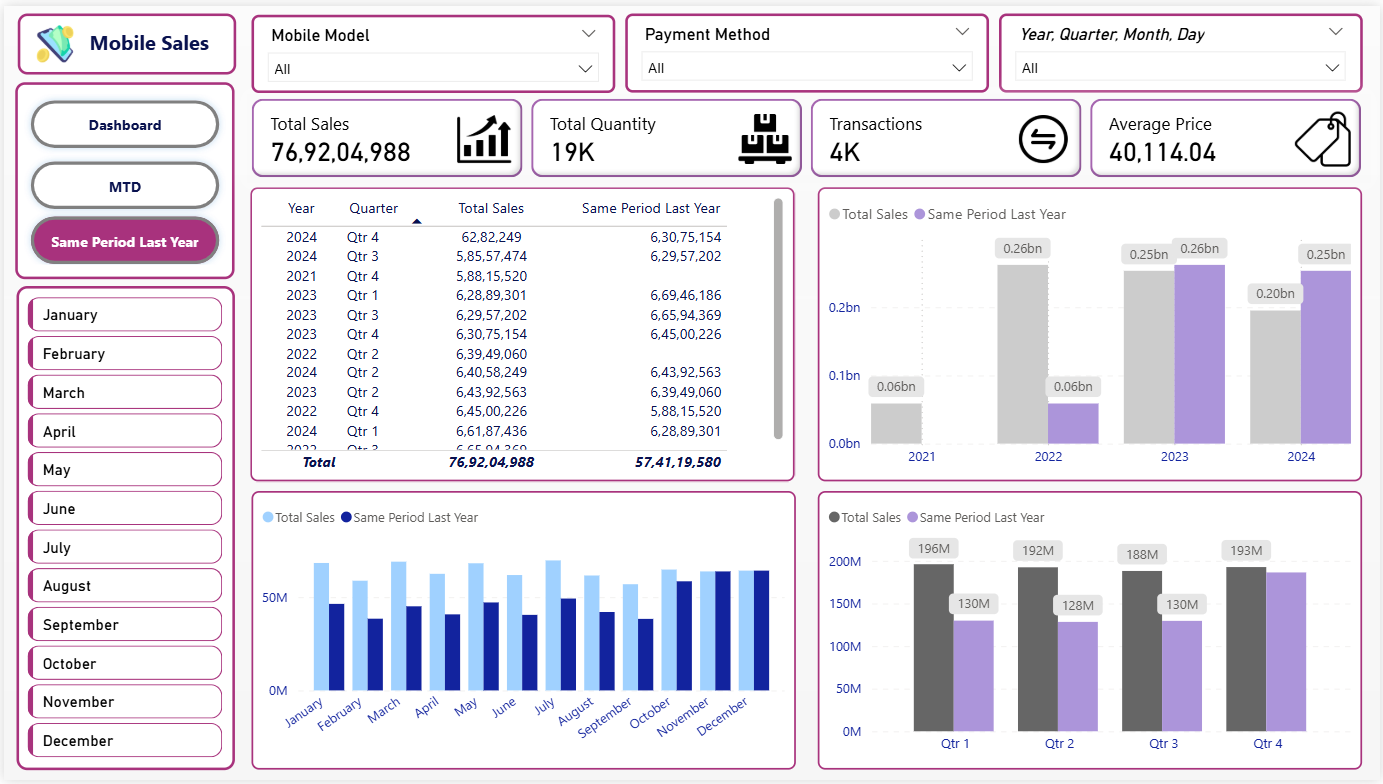

What the dashboard file says about the page in this screenshot:
{"tool":"powerbi","page":{"name":"Same Period Last Year","canvas":[1280,720],"ordinal":2},"visuals":[{"type":"slicer","fields":{"Values":["Custom_calender.Date.Variation.Date Hierarchy.Year","Custom_calender.Date.Variation.Date Hierarchy.Quarter","Custom_calender.Date.Variation.Date Hierarchy.Month","Custom_calender.Date.Variation.Date Hierarchy.Day"]},"box":[925.5,7.3,338.2,73.6],"z":0},{"type":"tableEx","fields":{"Values":["Custom_calender.Date.Variation.Date Hierarchy.Year","Custom_calender.Date.Variation.Date Hierarchy.Quarter","Sales_data.Total Sales","Sales_data.Same Period Last Year"]},"box":[229.4,168.1,506,273.6],"z":1000},{"type":"clusteredColumnChart","fields":{"Category":["Custom_calender.Date.Variation.Date Hierarchy.Year","Custom_calender.Date.Variation.Date Hierarchy.Quarter"],"Y":["Sales_data.Total Sales","Sales_data.Same Period Last Year"]},"box":[757.1,168.1,506.8,273.6],"z":2000},{"type":"clusteredColumnChart","fields":{"Y":["Sales_data.Total Sales","Sales_data.Same Period Last Year"],"Category":["Custom_calender.Date.Variation.Date Hierarchy.Year","Custom_calender.Date.Variation.Date Hierarchy.Quarter","Custom_calender.Date.Variation.Date Hierarchy.Month","Custom_calender.Date.Variation.Date Hierarchy.Day"]},"box":[230.7,451.5,506.8,258.9],"z":3000},{"type":"clusteredColumnChart","fields":{"Category":["Custom_calender.Date.Variation.Date Hierarchy.Year","Custom_calender.Date.Variation.Date Hierarchy.Quarter"],"Y":["Sales_data.Total Sales","Sales_data.Same Period Last Year"]},"box":[757.1,451.5,506.8,258.9],"z":4000},{"type":"advancedSlicerVisual","fields":{"Values":["Custom_calender.Date.Variation.Date Hierarchy.Month"]},"box":[12,260,203,450],"z":5000},{"type":"shape","box":[12.3,6.9,203.1,56.9],"z":6000},{"type":"textbox","box":[54.6,16.2,160.8,38.5],"z":7000},{"type":"image","box":[25.4,11.5,43.8,47.7],"z":8000},{"type":"shape","box":[11,71.2,203.7,182.8],"z":9000},{"type":"pageNavigator","box":[18.4,81,189,160.7],"z":10000},{"type":"cardVisual","fields":{"Data":["Sales_data.Total_sales","Sales_data.Total_Quantity","Sales_data.Transactions","Sales_data.Average_Price"]},"box":[225.8,80.8,1045.8,83],"z":11000},{"type":"slicer","fields":{"Values":["Sales_data.Mobile Model"]},"box":[230,8.1,338.7,72.9],"z":12000},{"type":"slicer","fields":{"Values":["Sales_data.Payment Method"]},"box":[577.9,7.4,338.7,73.6],"z":13000}]}

Visuals, with their boxes in screenshot pixels (x1, y1, x2, y2), scaled from the page's 1280x720 canvas onto the 1383x784 screenshot:
slicer - Custom_calender.Date.Variation.Date Hierarchy.Year x Custom_calender.Date.Variation.Date Hierarchy.Quarter: (left=1000, top=8, right=1365, bottom=88)
tableEx - Custom_calender.Date.Variation.Date Hierarchy.Year x Custom_calender.Date.Variation.Date Hierarchy.Quarter: (left=248, top=183, right=795, bottom=481)
clusteredColumnChart - Custom_calender.Date.Variation.Date Hierarchy.Year x Custom_calender.Date.Variation.Date Hierarchy.Quarter: (left=818, top=183, right=1366, bottom=481)
clusteredColumnChart - Sales_data.Total Sales x Sales_data.Same Period Last Year: (left=249, top=492, right=797, bottom=774)
clusteredColumnChart - Custom_calender.Date.Variation.Date Hierarchy.Year x Custom_calender.Date.Variation.Date Hierarchy.Quarter: (left=818, top=492, right=1366, bottom=774)
advancedSlicerVisual - Custom_calender.Date.Variation.Date Hierarchy.Month: (left=13, top=283, right=232, bottom=773)
shape: (left=13, top=8, right=233, bottom=69)
textbox: (left=59, top=18, right=233, bottom=60)
image: (left=27, top=13, right=75, bottom=64)
shape: (left=12, top=78, right=232, bottom=277)
pageNavigator: (left=20, top=88, right=224, bottom=263)
cardVisual - Sales_data.Total_sales x Sales_data.Total_Quantity: (left=244, top=88, right=1374, bottom=178)
slicer - Sales_data.Mobile Model: (left=249, top=9, right=614, bottom=88)
slicer - Sales_data.Payment Method: (left=624, top=8, right=990, bottom=88)
